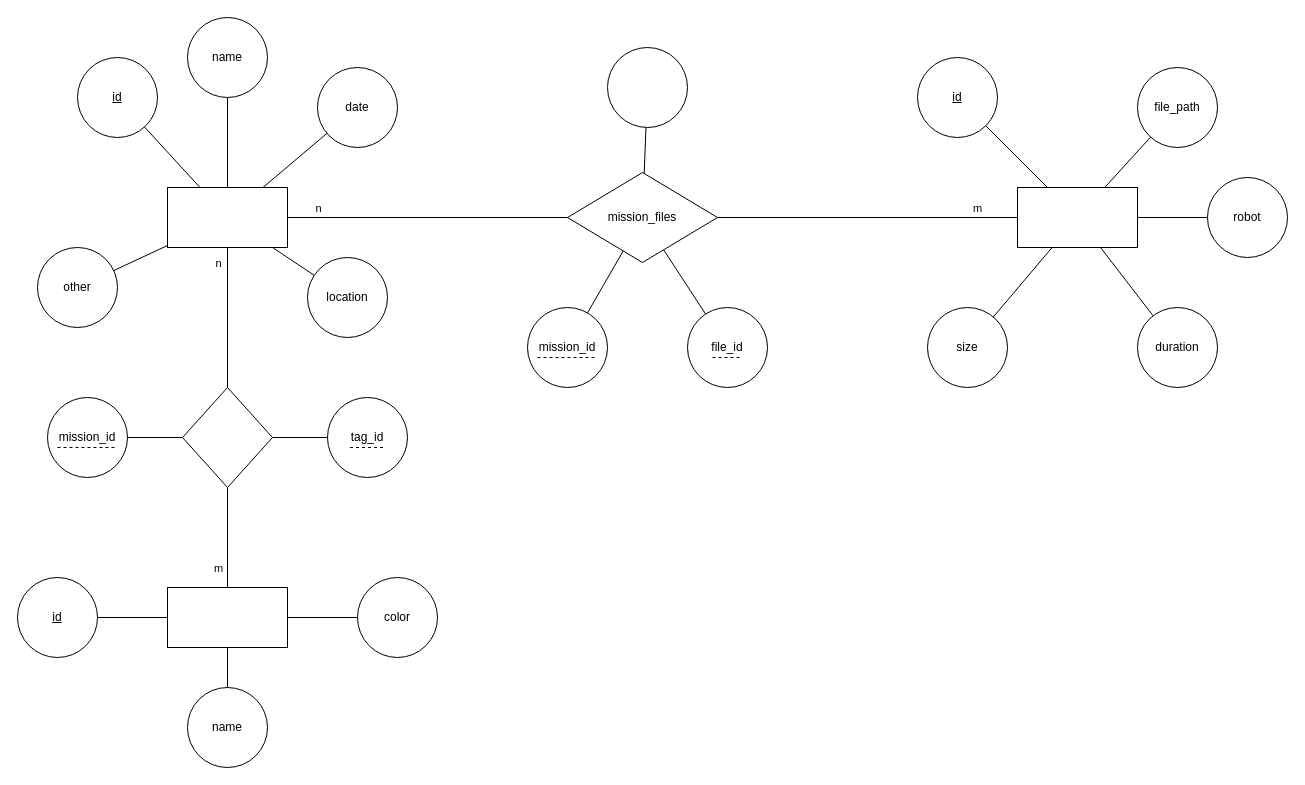
Some shapes in this 1305 by 785 pixel diagram are drawn without their labels. The shapes that lost their labels are listed below. From the top down, each one's centre as x and y in pixels, then its label:
At pixel 647 87: "type".
At pixel 227 217: "missions".
At pixel 1077 217: "files".
At pixel 227 437: "misson_tags".
At pixel 227 617: "tags".
